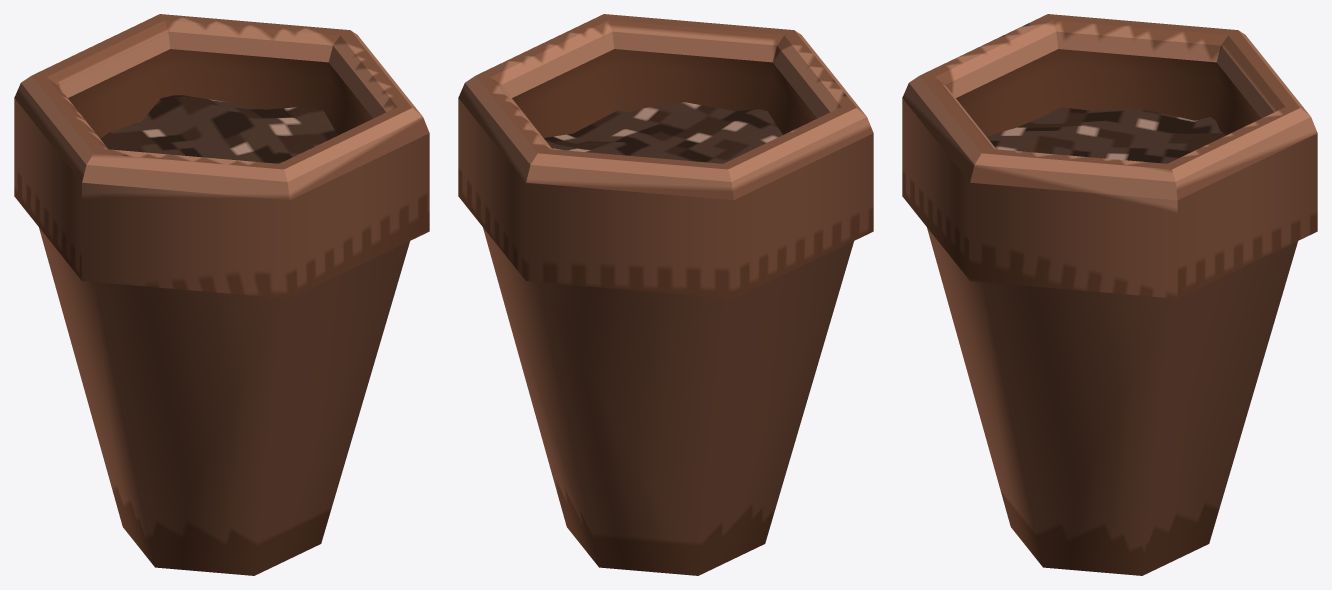
File: Pot4.fbx
3 views of the same model, side by side, from view 1: azimuth 30°, elevation 25°; view 2: azimuth 150°, elevation 25°; view 3: azimuth 270°, elevation 25° (orthographic).
Parts seen in each view (by area): view 1: Pot2; view 2: Pot2; view 3: Pot2.
Part boxes in pixels (x1,y1,x2,y2): Pot2: (14,14,429,575); Pot2: (458,14,873,575); Pot2: (902,14,1317,575).
Size of the model in its own units: 26.25 by 32.02 by 27.17.
Materials: 2 (2 with a texture image).
